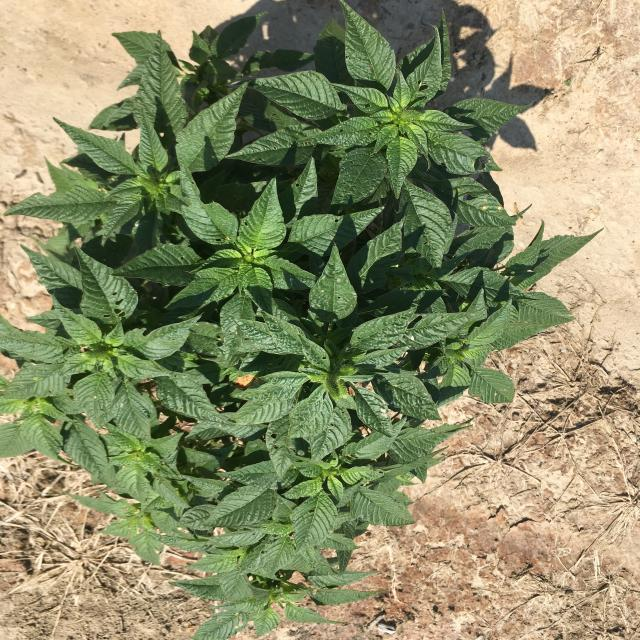PalmerAmaranth: (1, 1, 602, 640)
